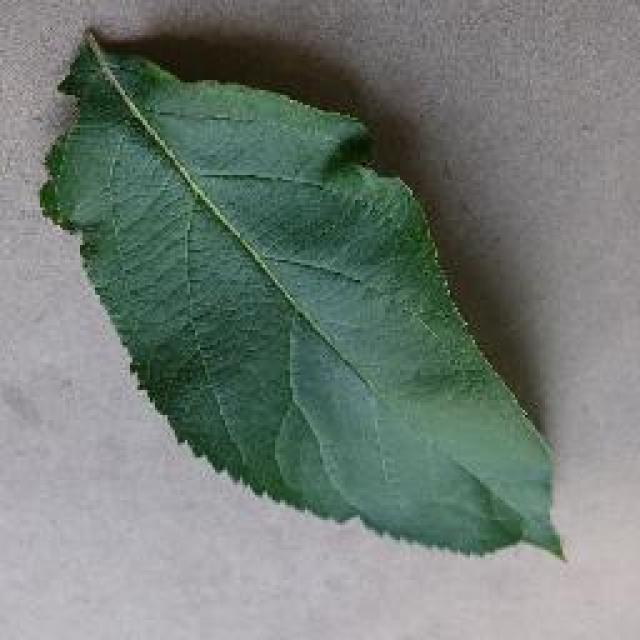apple scab disease: (38, 22, 568, 562)
